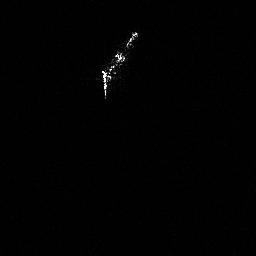ship: (97, 27, 141, 101)
